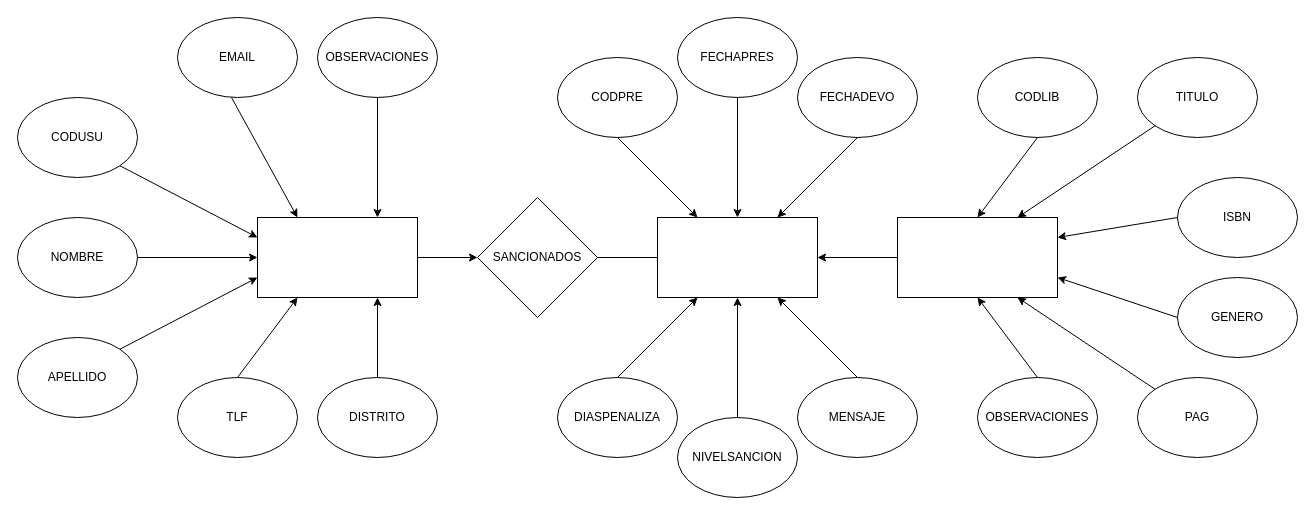
The diagram is 1315 pixels wide and 515 high, and some of its shapes have lost their labels. Here are the shapes that lost their labels. From the top down, the centre of each, then its label:
the point at 337,257: USUARIOS
the point at 737,257: PRESTAMOS
the point at 977,257: LIBROS
